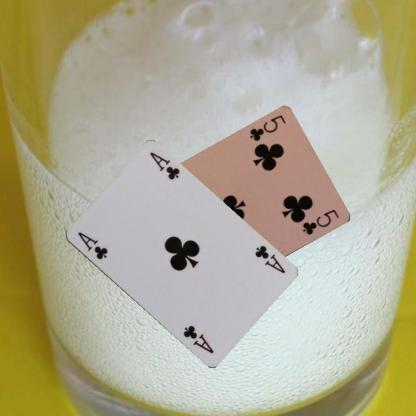5c: (247, 113, 287, 143)
Ac: (75, 229, 109, 261), (252, 243, 286, 275)
